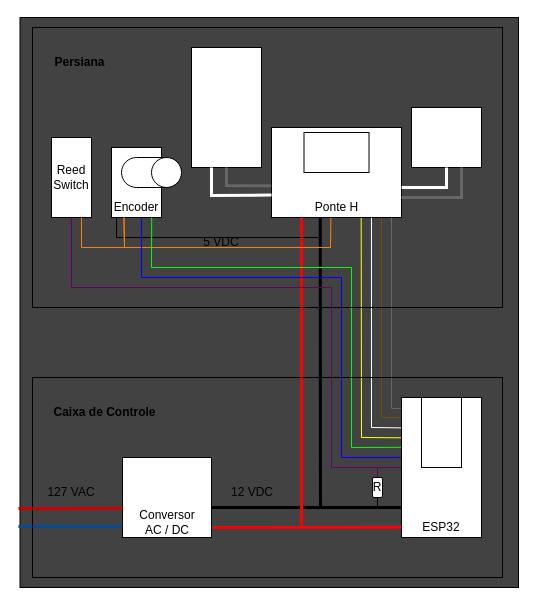
Image size: 536x605. Some labels were removed from this diagram. The box of each missing label's shape, as (x1, y1, x2, y2) in pixels:
Motor A: Movimento Vertical: (190, 46, 262, 168)
Motor B: Rotação Palhetas: (410, 106, 482, 168)
